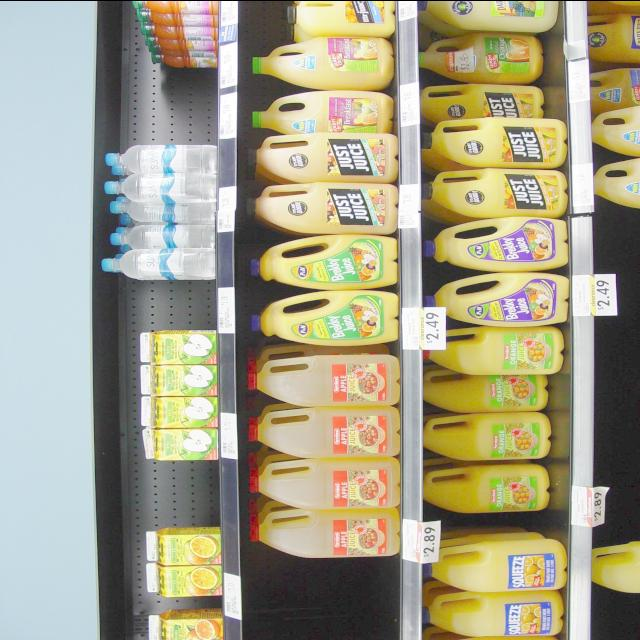empty_space: (610, 220, 640, 520), (109, 59, 213, 140), (266, 565, 386, 635), (110, 465, 210, 520), (110, 290, 210, 330), (610, 602, 640, 640)
